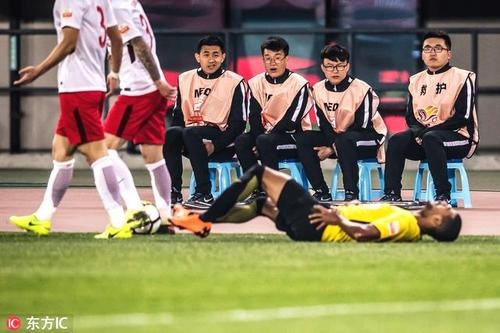falling: (175, 156, 467, 248)
